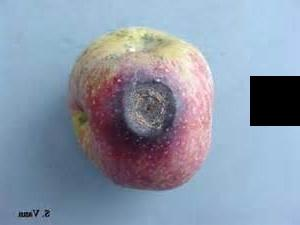rotten apple: (65, 24, 222, 192)
